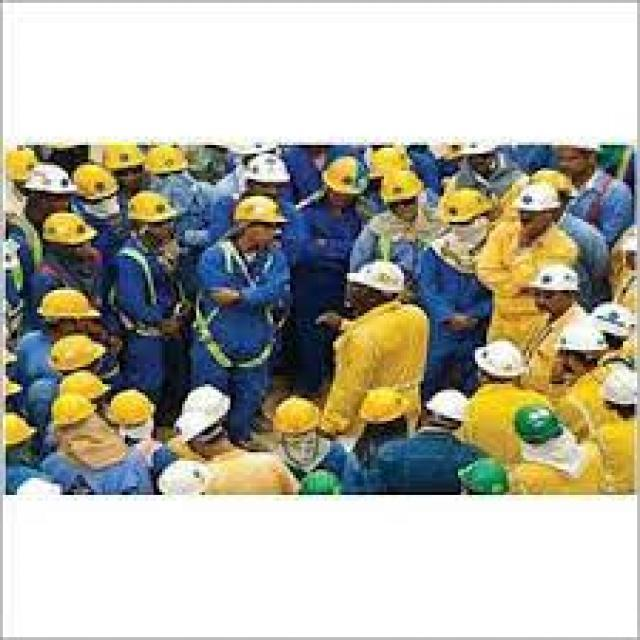safety_helmet: (34, 284, 102, 327), (122, 184, 184, 230), (39, 207, 99, 253), (344, 256, 406, 296), (227, 193, 287, 233), (318, 153, 369, 199), (68, 159, 119, 204), (19, 162, 77, 199), (142, 139, 193, 181), (239, 153, 290, 190), (375, 167, 423, 205), (514, 176, 563, 213), (529, 261, 580, 293)
